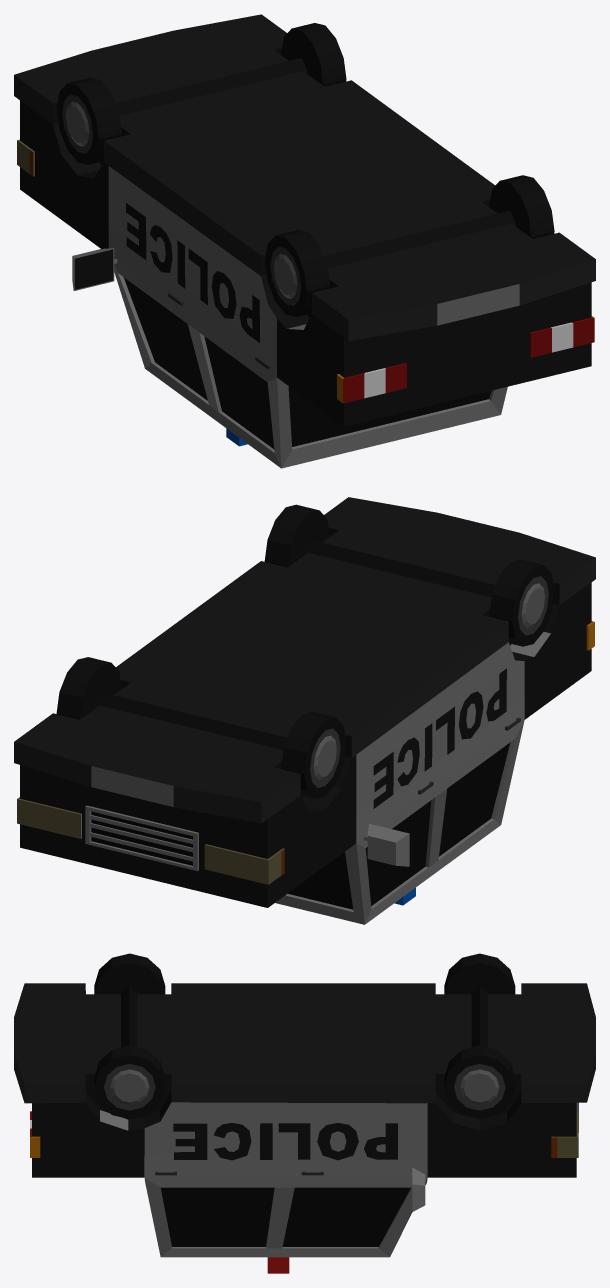
The model's file is police.FBX.
3 views of the same model, one above another, from view 1: azimuth 30°, elevation 25°; view 2: azimuth 150°, elevation 25°; view 3: azimuth 270°, elevation 25° (orthographic). The views are drawn at different scales.
Visible parts, largest first — view 1: police; view 2: police; view 3: police.
Part boxes in pixels (box(x1,y1,x2,y2)): police: box(14, 14, 595, 468); police: box(14, 497, 595, 924); police: box(14, 953, 595, 1273).
Size of the model in its own units: 3.33 by 2.62 by 5.94.
